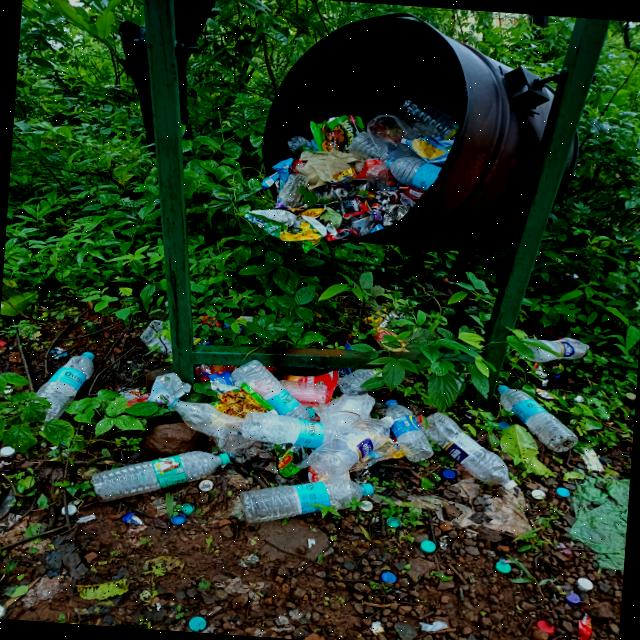garbage: (51, 330, 600, 550), (210, 81, 541, 266)
